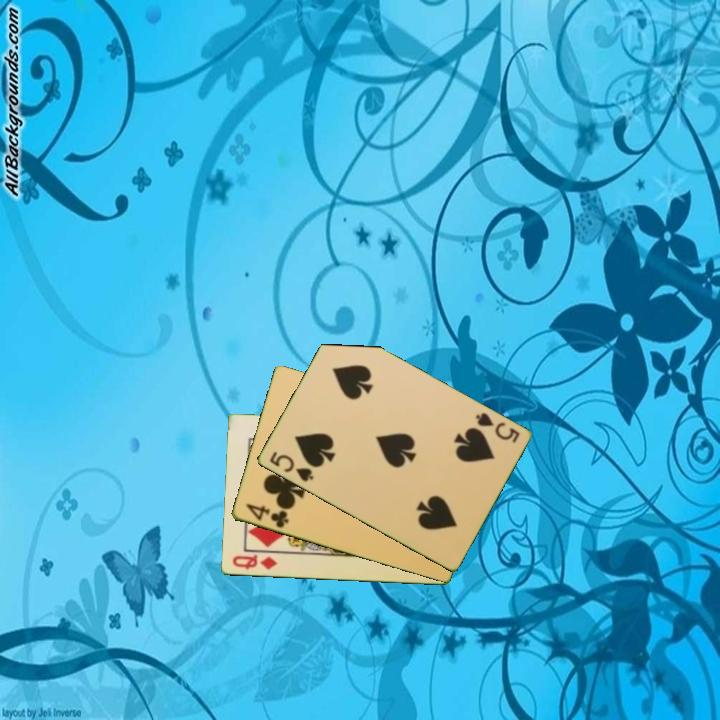4c: (242, 500, 291, 531)
5s: (265, 448, 316, 485), (471, 409, 522, 446)
Qd: (229, 552, 280, 573)
